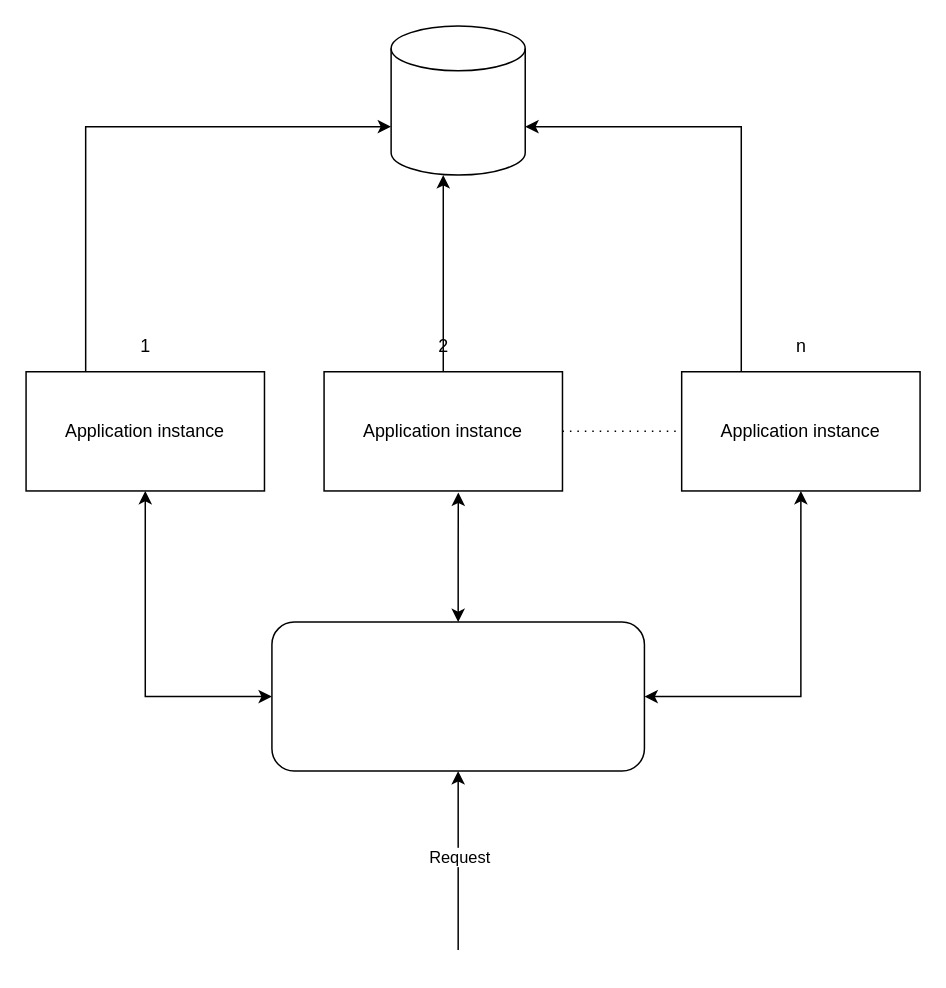
Image size: 946x988. Some labels were removed from this diagram. The box of each missing label's shape, as (x1, y1, x2, y2) in pixels:
Database: (390, 25, 525, 175)
Router: (270, 621, 644, 771)
